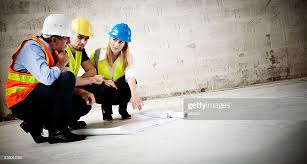helmet: (45, 16, 73, 36), (111, 24, 134, 43), (75, 17, 96, 37)
vest: (8, 38, 57, 109), (95, 51, 128, 87), (67, 49, 86, 79)
